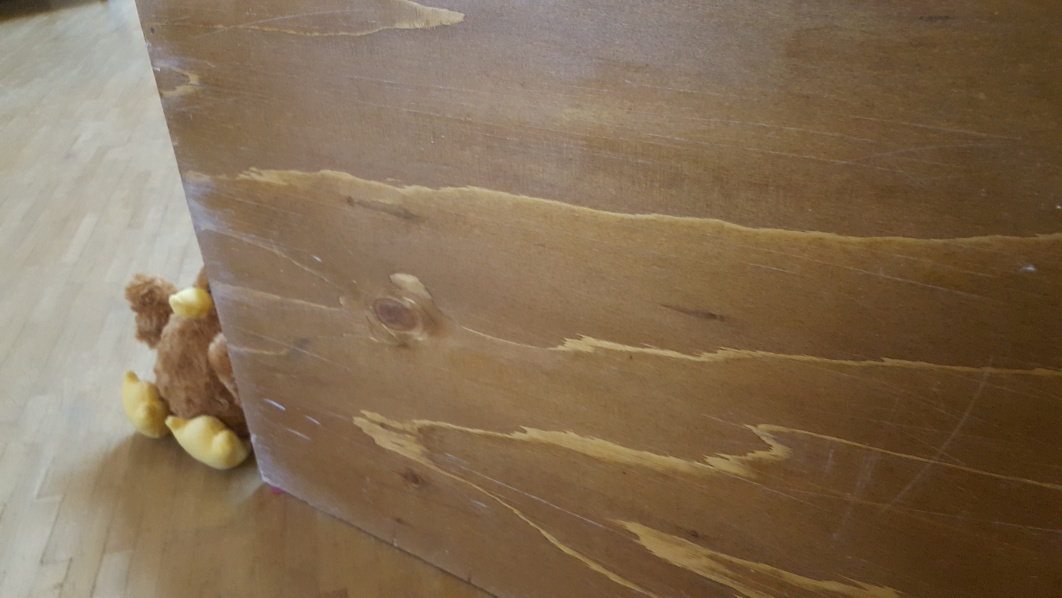chicken: (122, 263, 249, 474)
